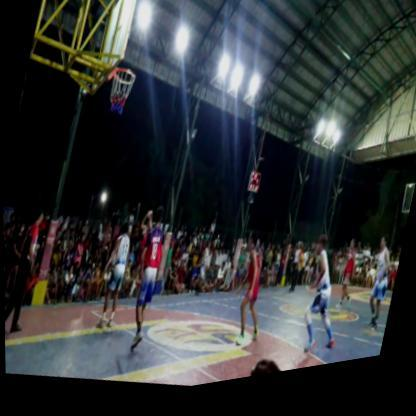basketball: (143, 213, 153, 231)
rim: (98, 52, 142, 136)
